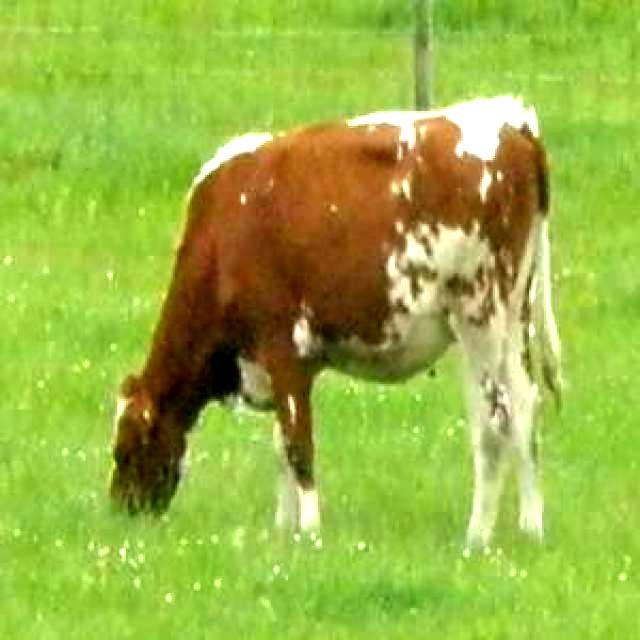COW: (112, 98, 559, 550)
